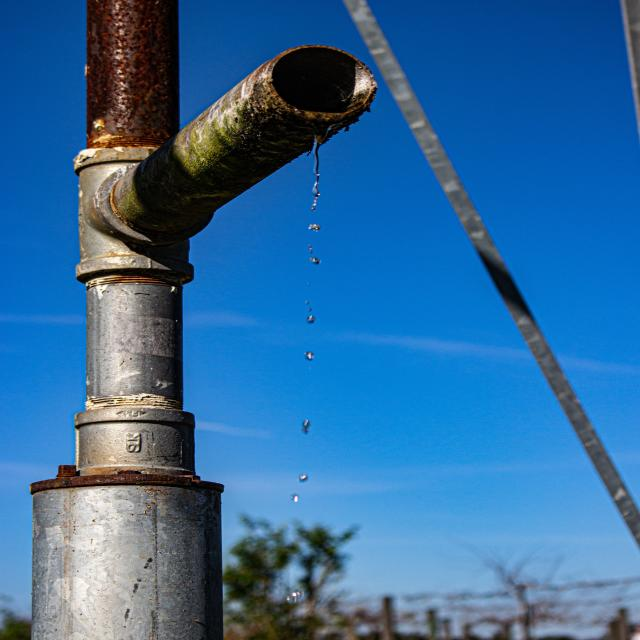Metal: (27, 0, 378, 640)
